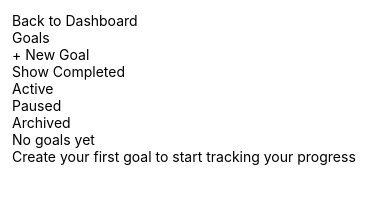
Test: GoalsScreen › Create View › goes back to list when back button pressed
The image size is (373, 197).
Click the button with aria-label "Create new goal" at (51, 54), box [12,46,356,63]
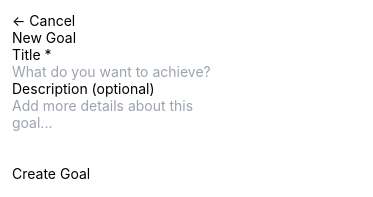
Click the button with aria-label "Cancel and go back to list" at (121, 20), box [12,12,230,29]
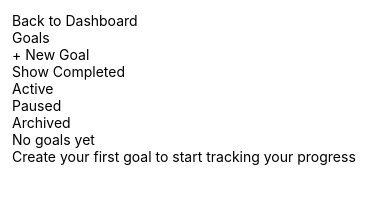
Result: the text "Goals" is shown at [12,29,50,46]
